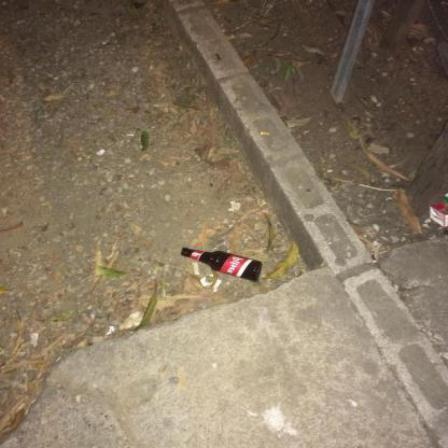Bottle: (182, 249, 263, 283)
Carton: (431, 202, 448, 228)
Cigarette: (261, 133, 272, 137)
